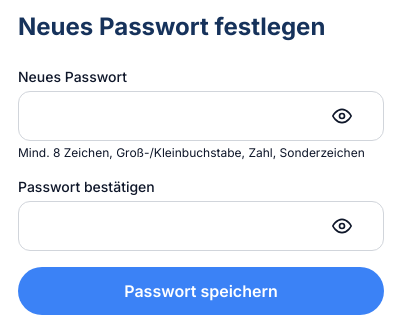
Scenario: ResetPasswordForm › setzt das Passwort mit gueltigem Token zurueck und zeigt eine Erfolgsmeldung
In the password field labelled "Neues Passwort": (201, 116) 18,91 -> 384,141, type "NeuesPass1!"
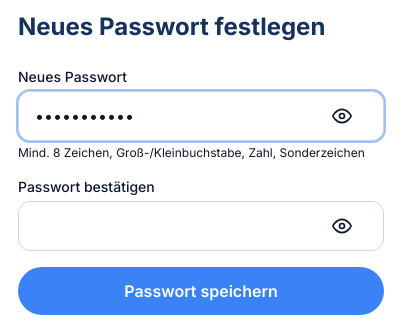
In the password field labelled "Passwort bestätigen": (201, 226) 18,201 -> 384,251, type "NeuesPass1!"
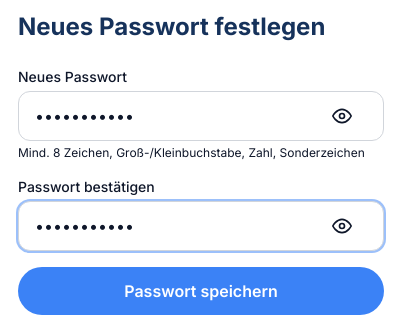
Click the button "Passwort speichern": (201, 291) 18,267 -> 384,315
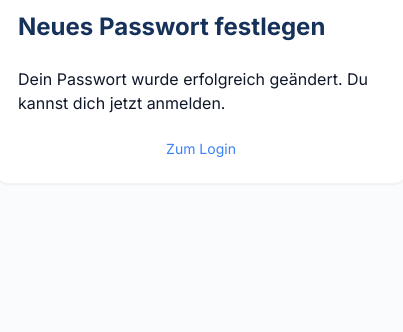
Check: the text "Dein Passwort wurde erfolgreich geändert. Du kannst dich jetzt anmelden." is shown, box 18,67 -> 384,115
